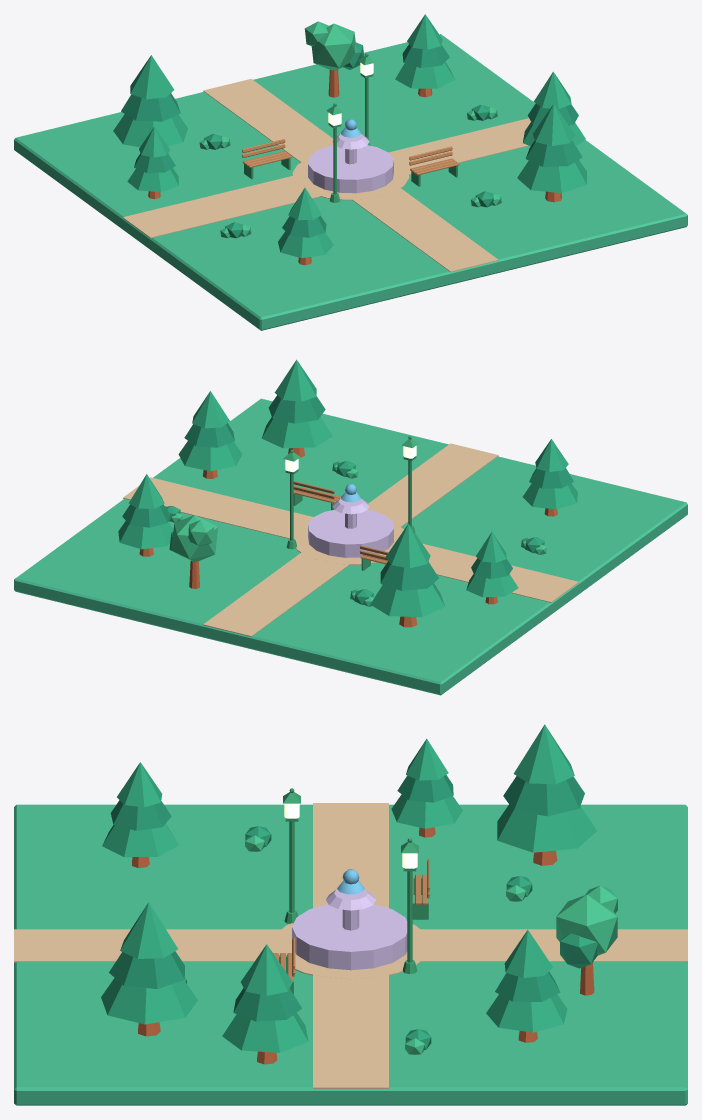
File: lot_park.glb
3 views of the same model, one above another, from view 1: azimuth 30°, elevation 25°; view 2: azimuth 150°, elevation 25°; view 3: azimuth 270°, elevation 25° (orthographic). The views are drawn at different scales.
Parts seen in each view (by area): view 1: lot_park; view 2: lot_park; view 3: lot_park.
Boxes of the visible parts, x1,y1,x2,y2 form: lot_park: [14, 14, 687, 330]; lot_park: [14, 359, 687, 695]; lot_park: [14, 724, 687, 1105].
Bounding box in the file's own units: 16 × 4.06 × 16.
